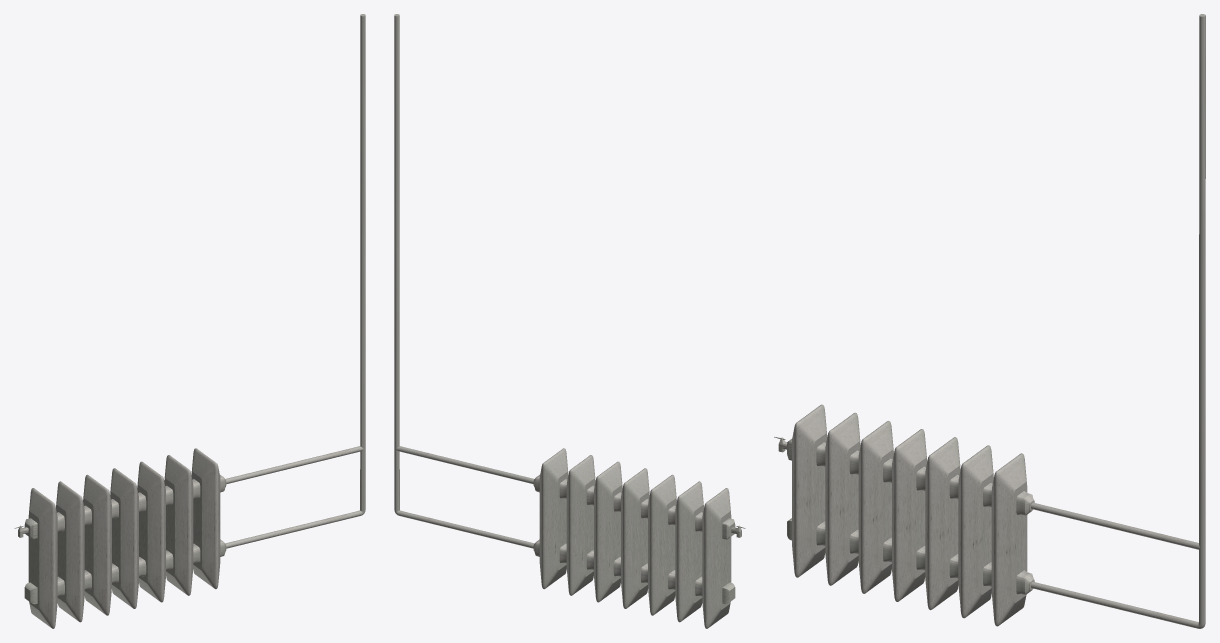
File: radiaator_Textured.fbx
3 views of the same model, side by side, from view 1: azimuth 30°, elevation 25°; view 2: azimuth 150°, elevation 25°; view 3: azimuth 330°, elevation 25° (orthographic). The views are drawn at different scales.
Visible parts, largest first — view 1: radikas; view 2: radikas; view 3: radikas.
Boxes of the visible parts, bbox=[...] form: radikas: bbox=[14, 14, 365, 628]; radikas: bbox=[394, 14, 745, 628]; radikas: bbox=[774, 14, 1205, 628].
Size of the model in its own units: 2384 by 3428 by 264.
